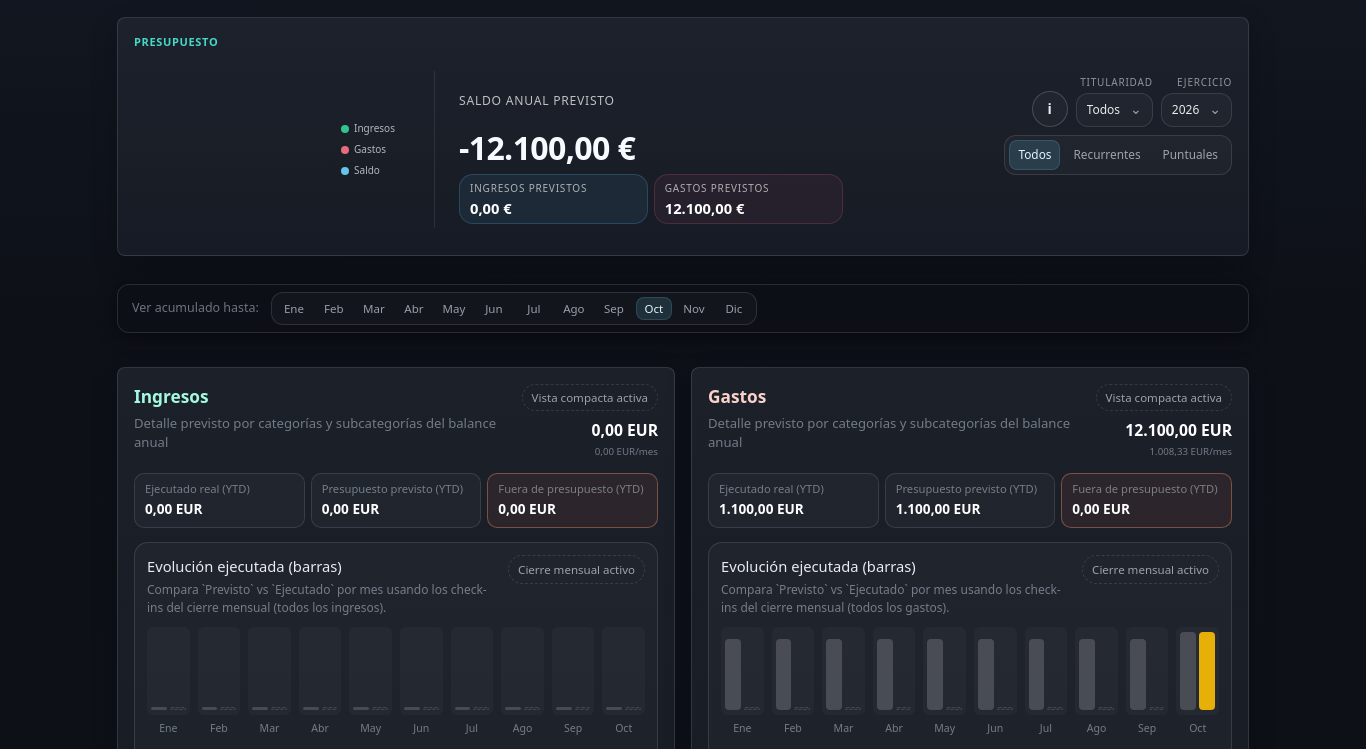
Test case: BudgetDashboardView › updates expense YTD totals and evolution when switching recurrent/one-off filter
What coordinates should you click on to do the following:
click the button "Recurrentes"
I would click on:
 (1107, 155)
Its box is x1=1064 y1=140 x2=1150 y2=170.
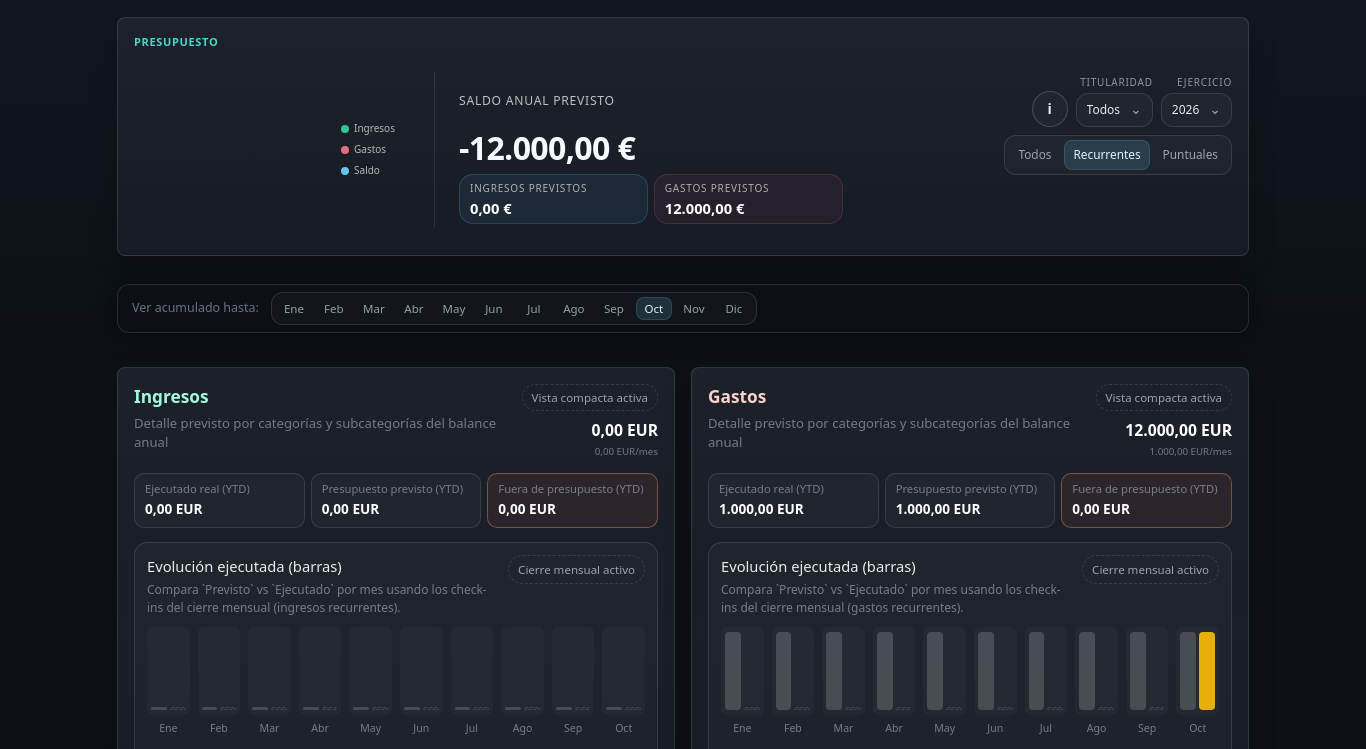
Expected: the element with class "ui-budget-section-expense" shows "1.000,00 EUR", x1=719 y1=499 x2=804 y2=518
What coordinates should you click on to do the following:
click the button "Puntuales"
I would click on:
 (1190, 155)
Its box is x1=1154 y1=140 x2=1227 y2=170.
(page scrolled)
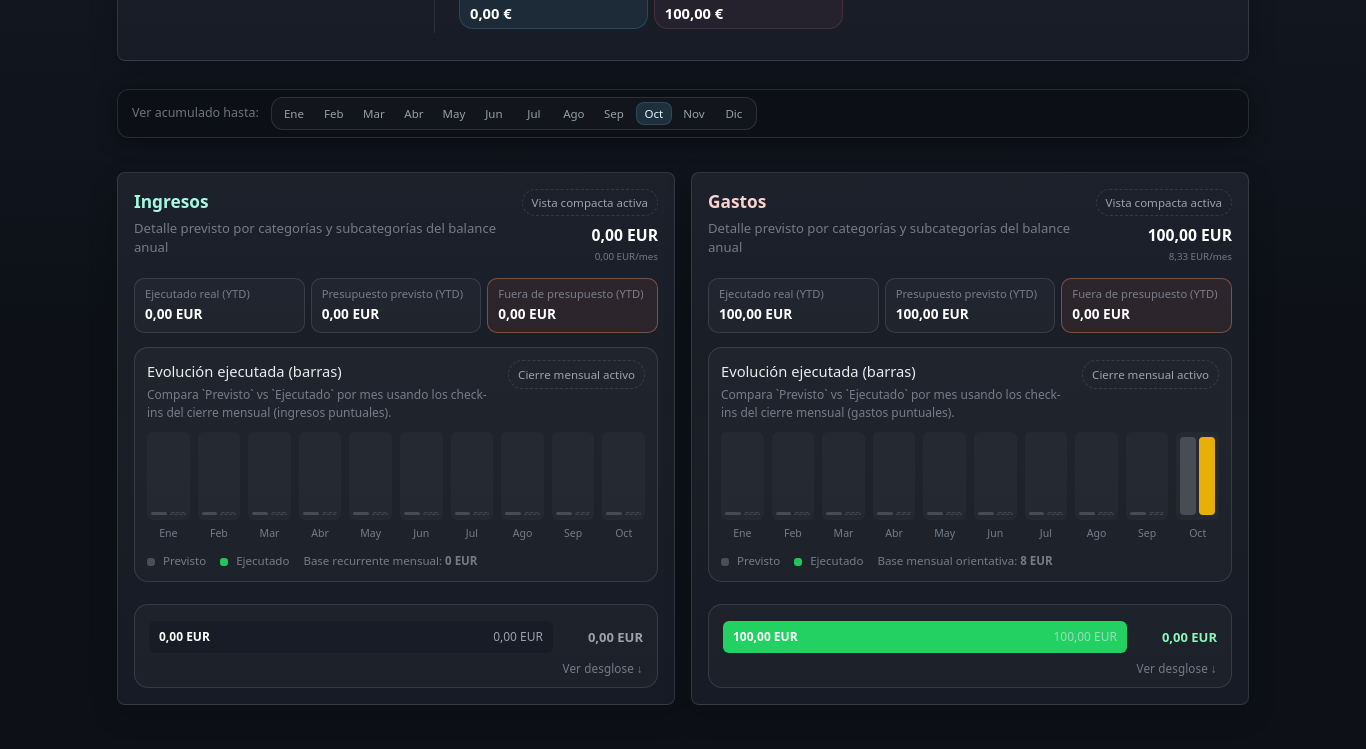
Expected: the element with class "ui-budget-section-expense" shows "100,00 EUR", x1=1148 y1=224 x2=1232 y2=246
